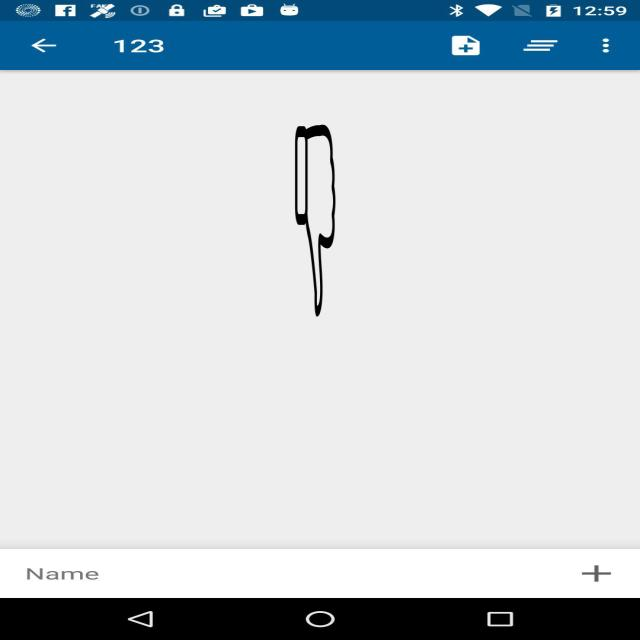obstruction: (295, 125, 336, 316)
